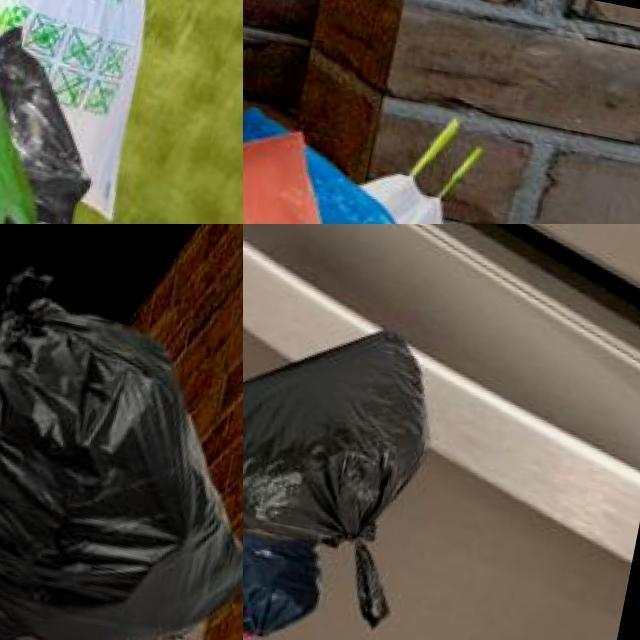waste: (0, 257, 243, 640), (243, 291, 452, 587), (0, 0, 118, 224), (243, 103, 429, 224), (243, 130, 463, 224), (243, 524, 339, 640)
